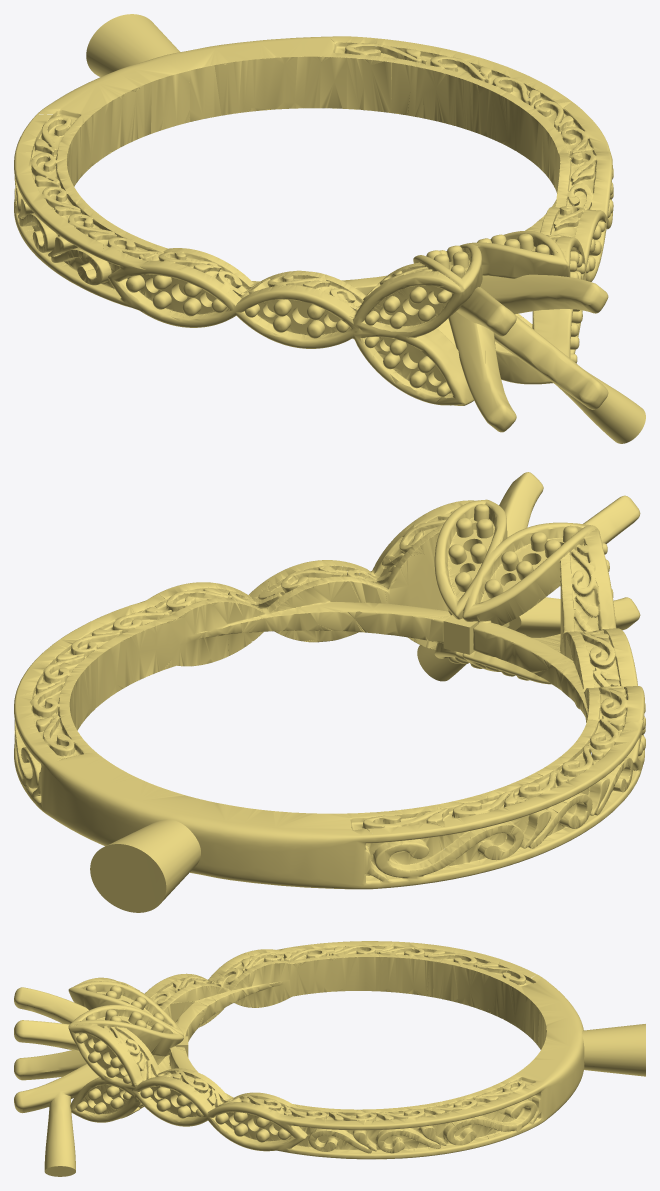
Rendered from 10_numara.glb.
The picture shows the model from 3 angles, top to bottom: view 1: azimuth 30°, elevation 25°; view 2: azimuth 150°, elevation 25°; view 3: azimuth 270°, elevation 25°; orthographic projection. The views are drawn at different scales.
Parts seen in each view (by area): view 1: Renderer Node; view 2: Renderer Node; view 3: Renderer Node.
Part boxes in pixels (x1,y1,x2,y2): Renderer Node: [14, 14, 645, 443]; Renderer Node: [14, 472, 645, 912]; Renderer Node: [14, 941, 645, 1176].
Size of the model in its own units: 21.48 by 7.68 by 30.94.
